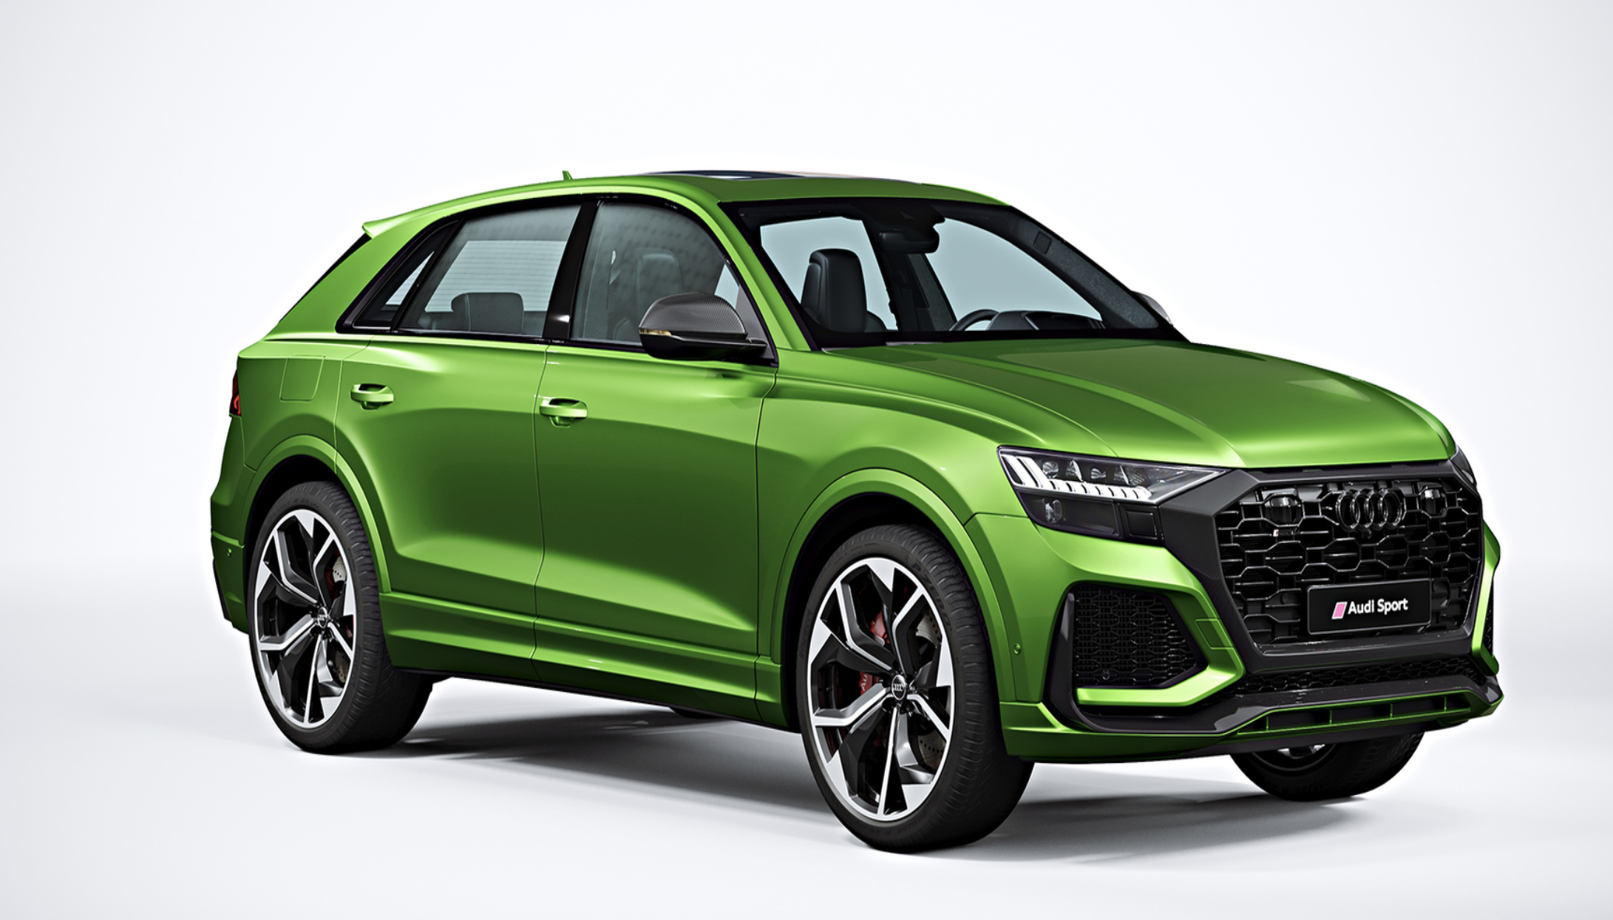hatch: (274, 344, 333, 412)
